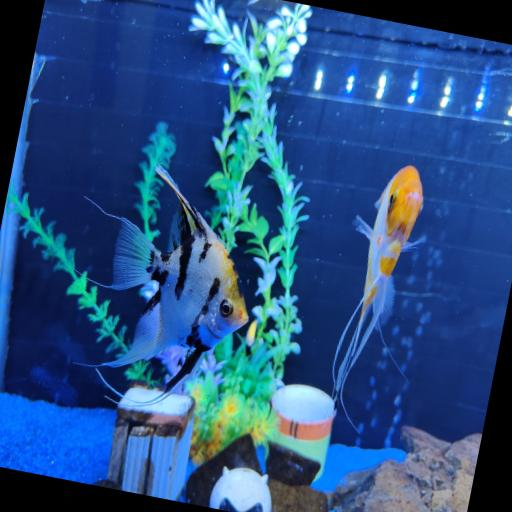Fish: (102, 166, 248, 399), (332, 166, 423, 413)
